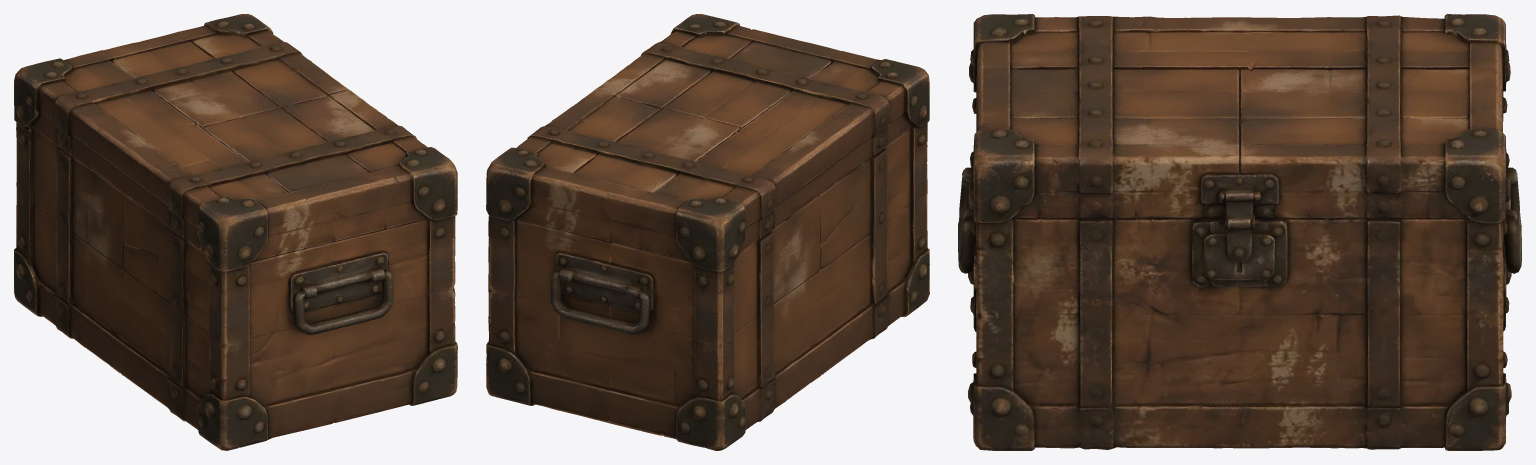
File: m_crate.glb
The picture shows the model from 3 angles, left to right: view 1: azimuth 30°, elevation 25°; view 2: azimuth 150°, elevation 25°; view 3: azimuth 270°, elevation 25°; orthographic projection. The views are drawn at different scales.
Parts seen in each view (by area): view 1: tripo_node_c01207c0-36f5-475f-983c-de168ac52fc1; view 2: tripo_node_c01207c0-36f5-475f-983c-de168ac52fc1; view 3: tripo_node_c01207c0-36f5-475f-983c-de168ac52fc1.
Part boxes in pixels (x1,y1,x2,y2): tripo_node_c01207c0-36f5-475f-983c-de168ac52fc1: (14,14,457,450); tripo_node_c01207c0-36f5-475f-983c-de168ac52fc1: (486,14,929,450); tripo_node_c01207c0-36f5-475f-983c-de168ac52fc1: (958,14,1521,450).
Size of the model in its own units: 0.6551 by 0.5944 by 1.
1 material, 1 textured.
